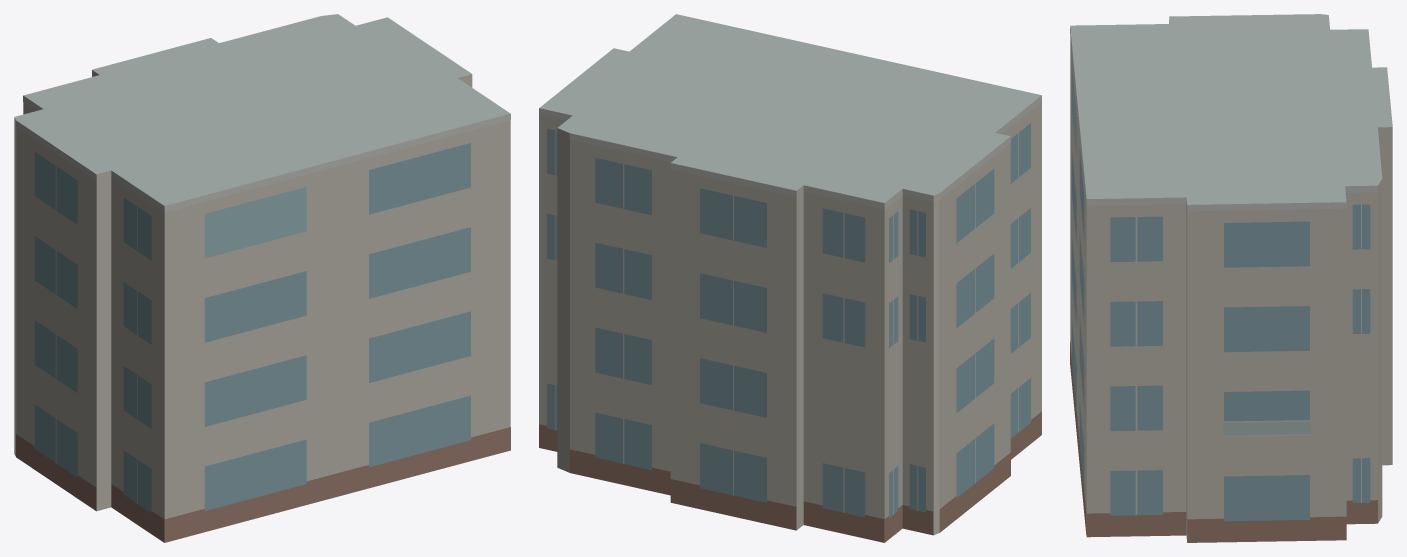
Rendered from survey-upis-32625693.glb.
The picture shows the model from 3 angles, left to right: view 1: azimuth 30°, elevation 25°; view 2: azimuth 150°, elevation 25°; view 3: azimuth 270°, elevation 25°; orthographic projection.
Parts seen in each view (by area): view 1: survey-upis-32625693.tmp; view 2: survey-upis-32625693.tmp; view 3: survey-upis-32625693.tmp.
Boxes of the visible parts, x1=… form: survey-upis-32625693.tmp: x1=14, y1=14, x2=510, y2=542; survey-upis-32625693.tmp: x1=539, y1=14, x2=1041, y2=542; survey-upis-32625693.tmp: x1=1070, y1=14, x2=1392, y2=542.
Size of the model in its own units: 15.38 by 12.69 by 10.99.
